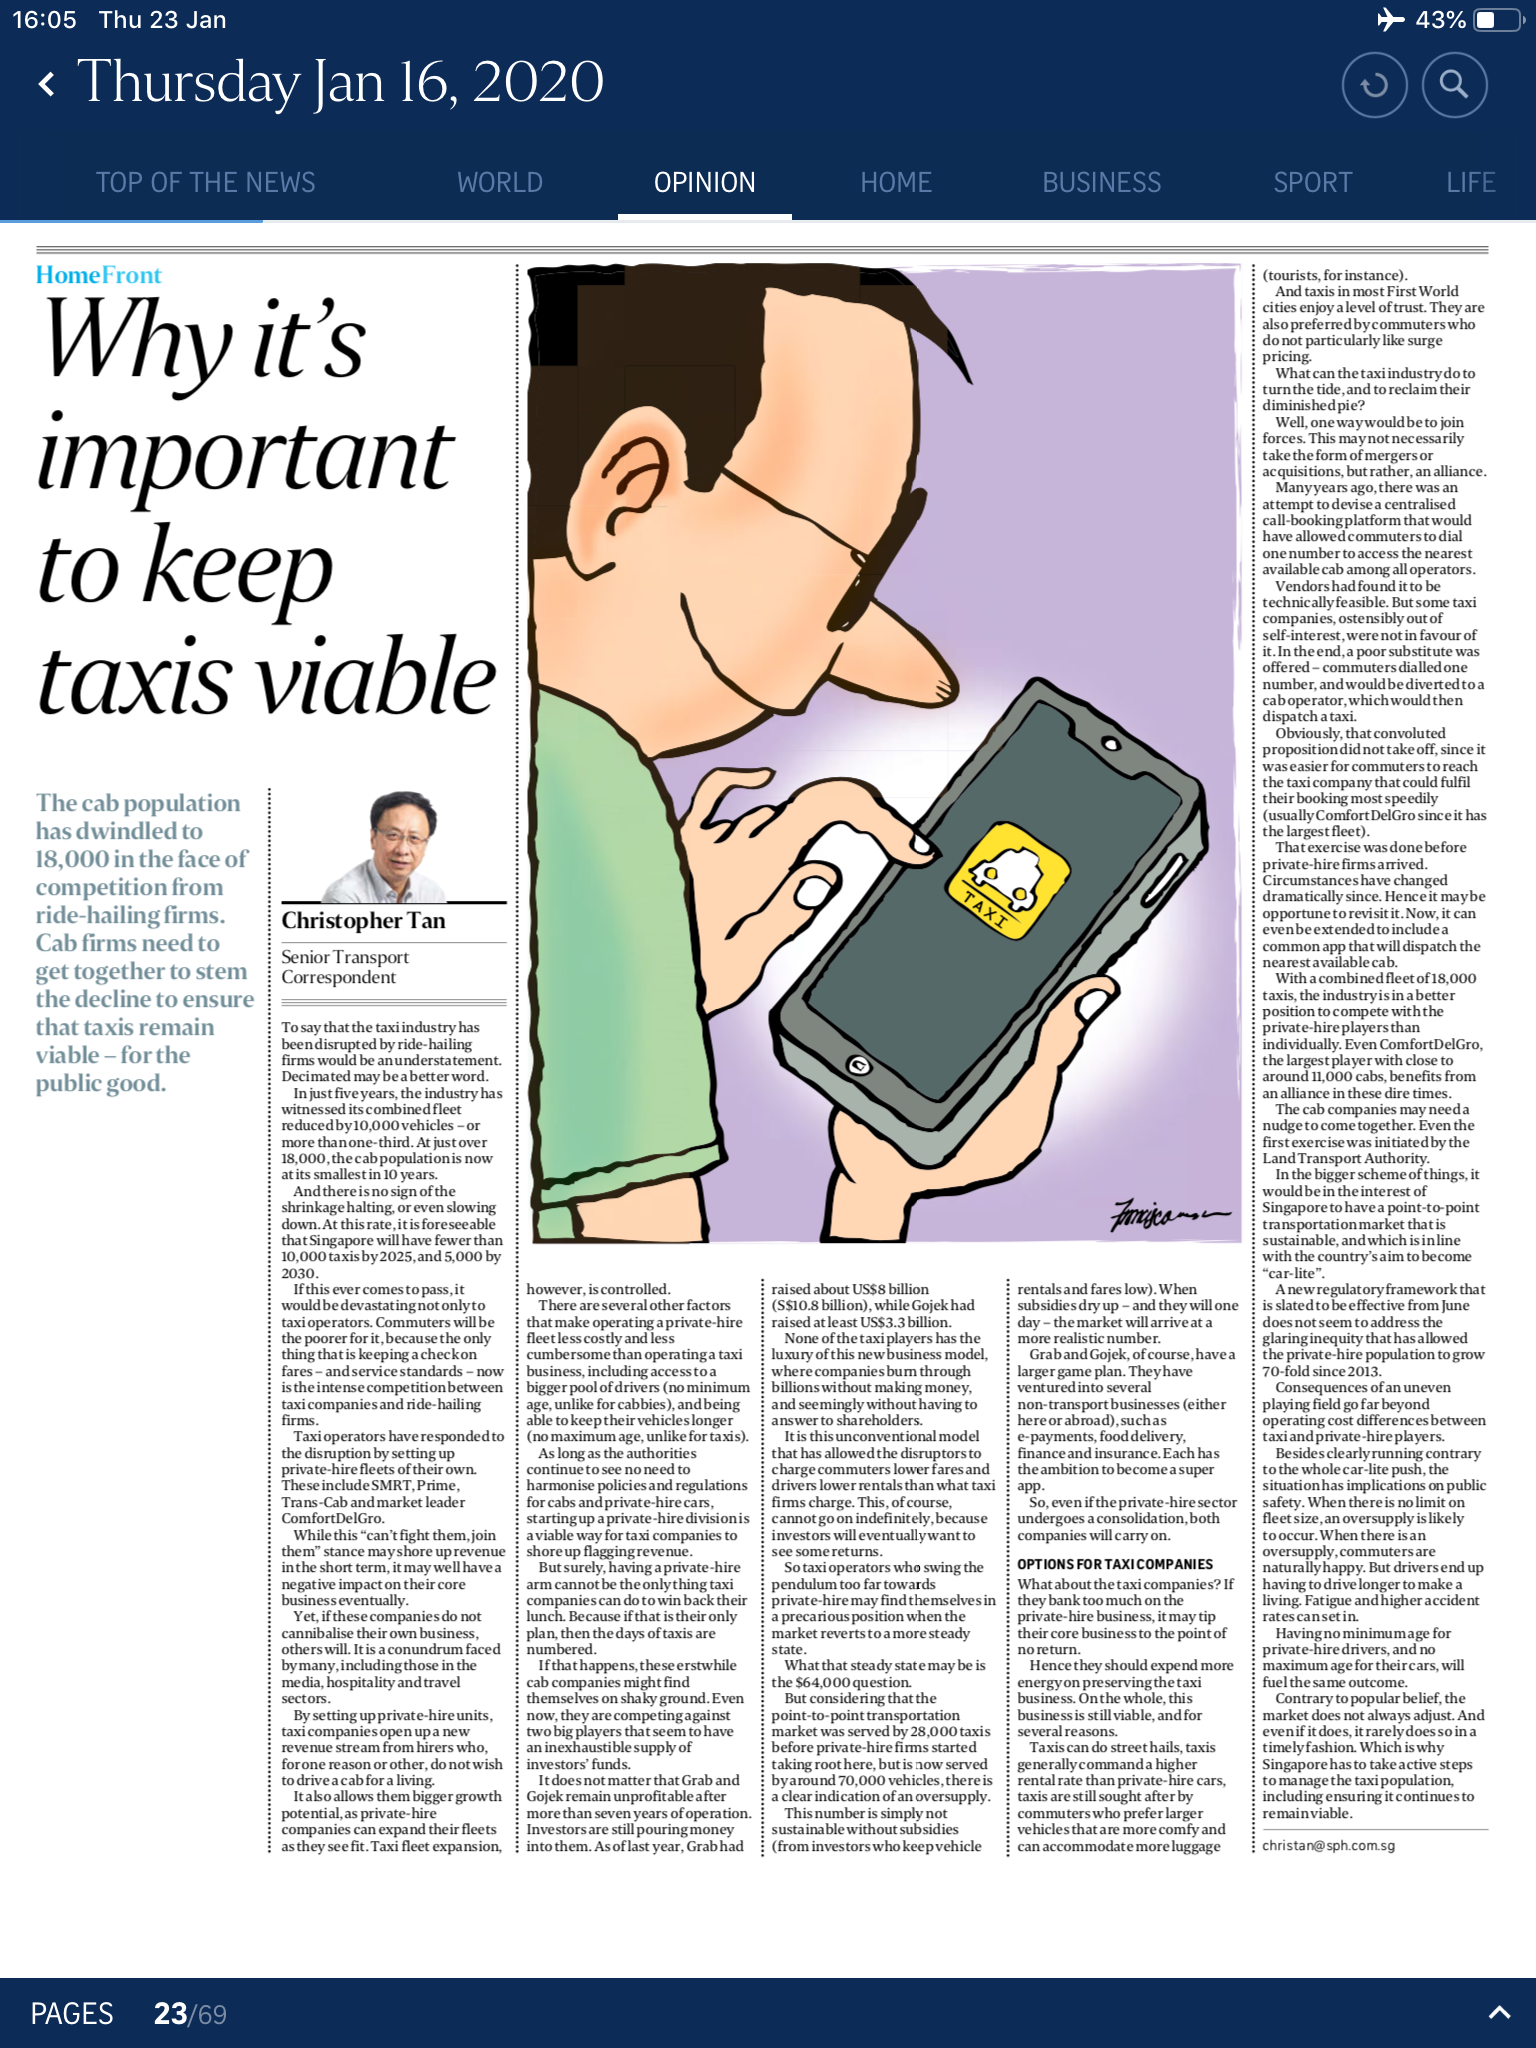Headline: (27, 285, 505, 737)
